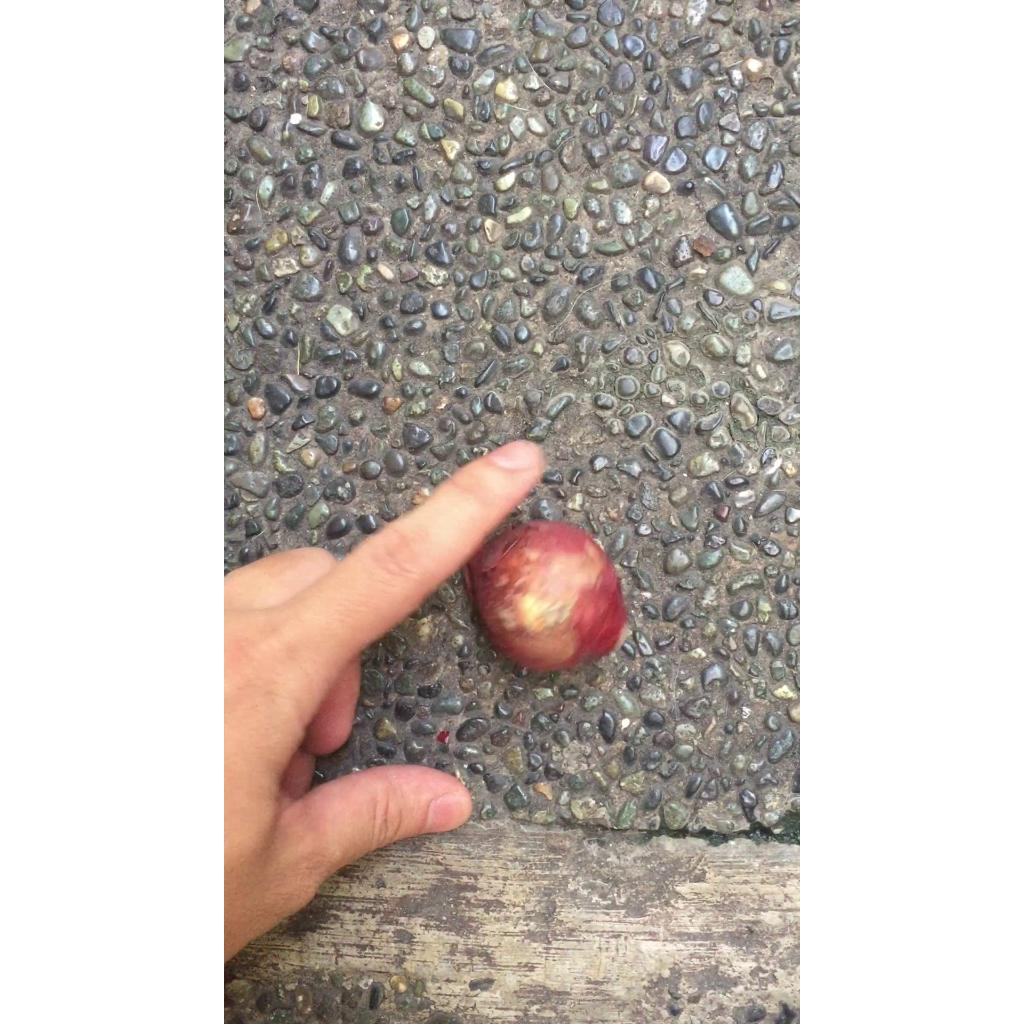Onion: (465, 521, 627, 671)
